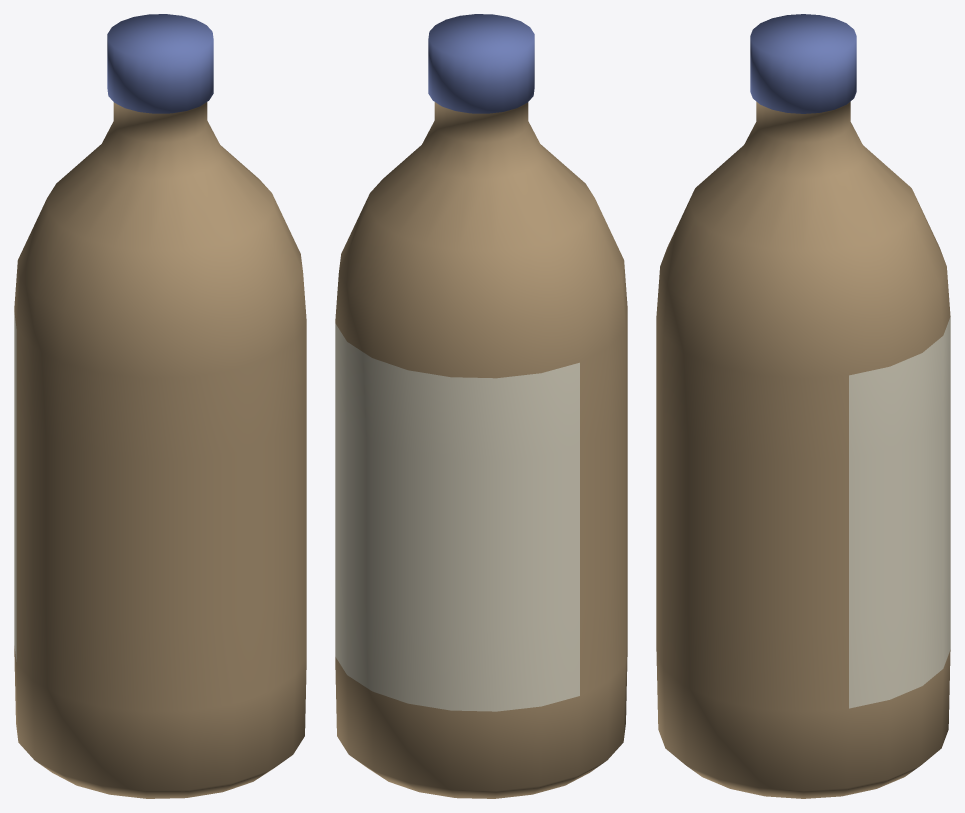
Rendered from js_bottle.glb.
3 views of the same model, side by side, from view 1: azimuth 30°, elevation 25°; view 2: azimuth 150°, elevation 25°; view 3: azimuth 270°, elevation 25° (orthographic).
Visible parts, largest first — view 1: js_bottle; view 2: js_bottle; view 3: js_bottle.
Boxes of the visible parts, x1,y1,x2,y2 form: js_bottle: (14, 14, 306, 798); js_bottle: (335, 14, 627, 798); js_bottle: (656, 14, 950, 798).
Size of the model in its own units: 0.08 by 0.213 by 0.08.
